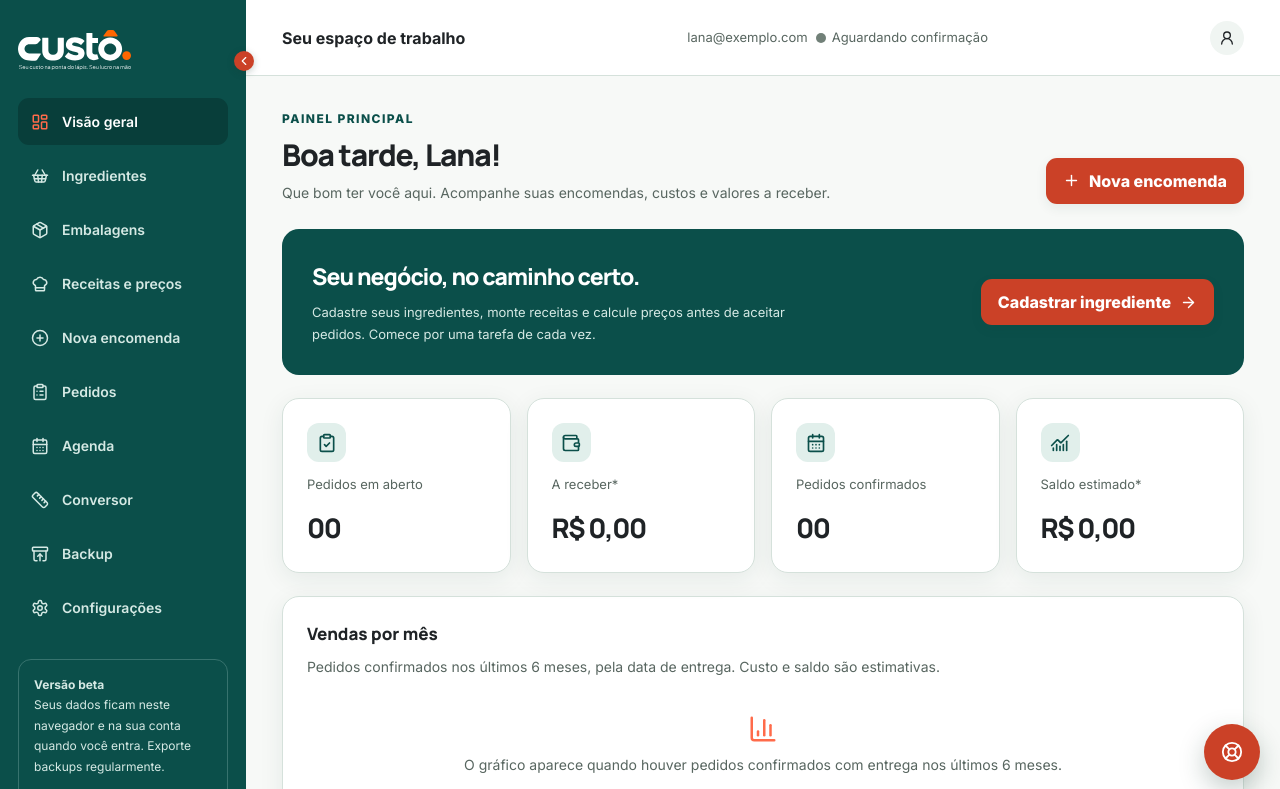
botão de suporte › sugestão vai direto para a equipe (o aviso diz isso)
Click the button named "Suporte" at (1232, 752), box [1204,724,1260,780]
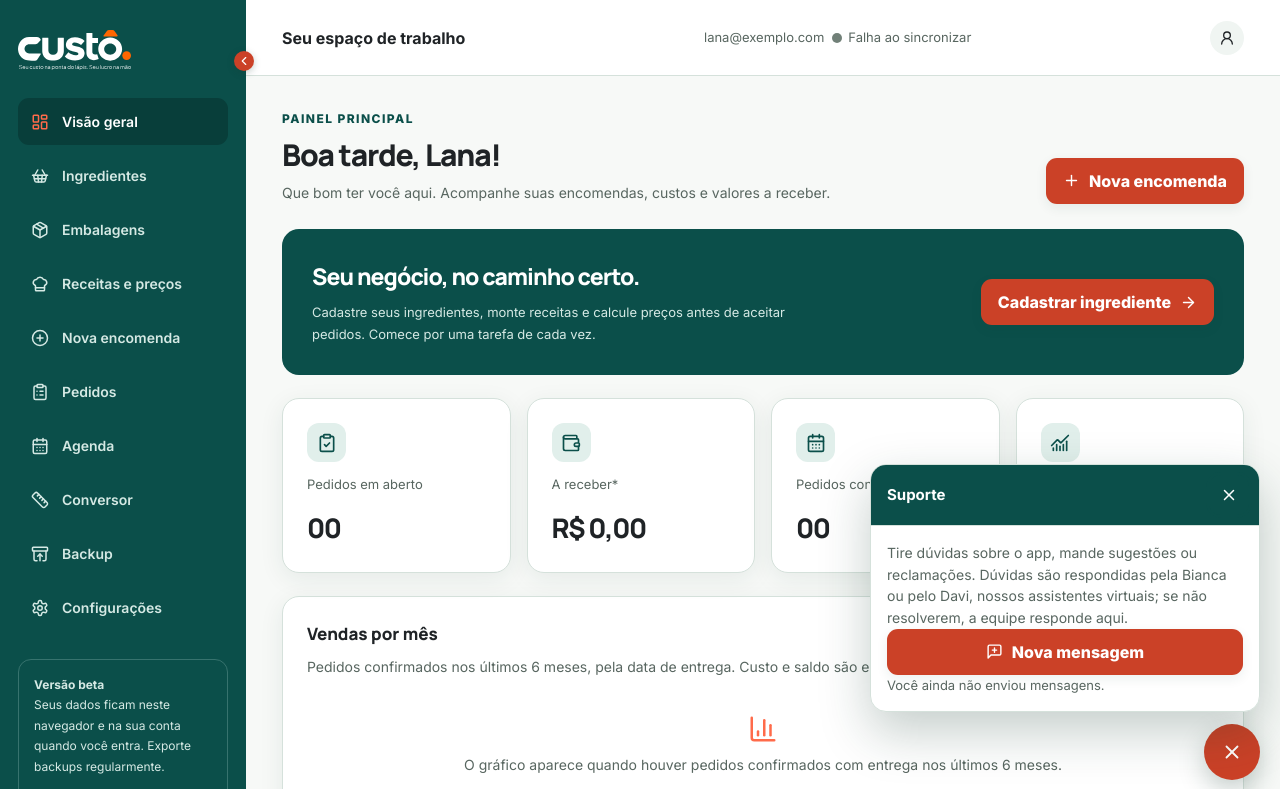
Click the button "Nova mensagem" at (1065, 652), box [887,629,1243,675]
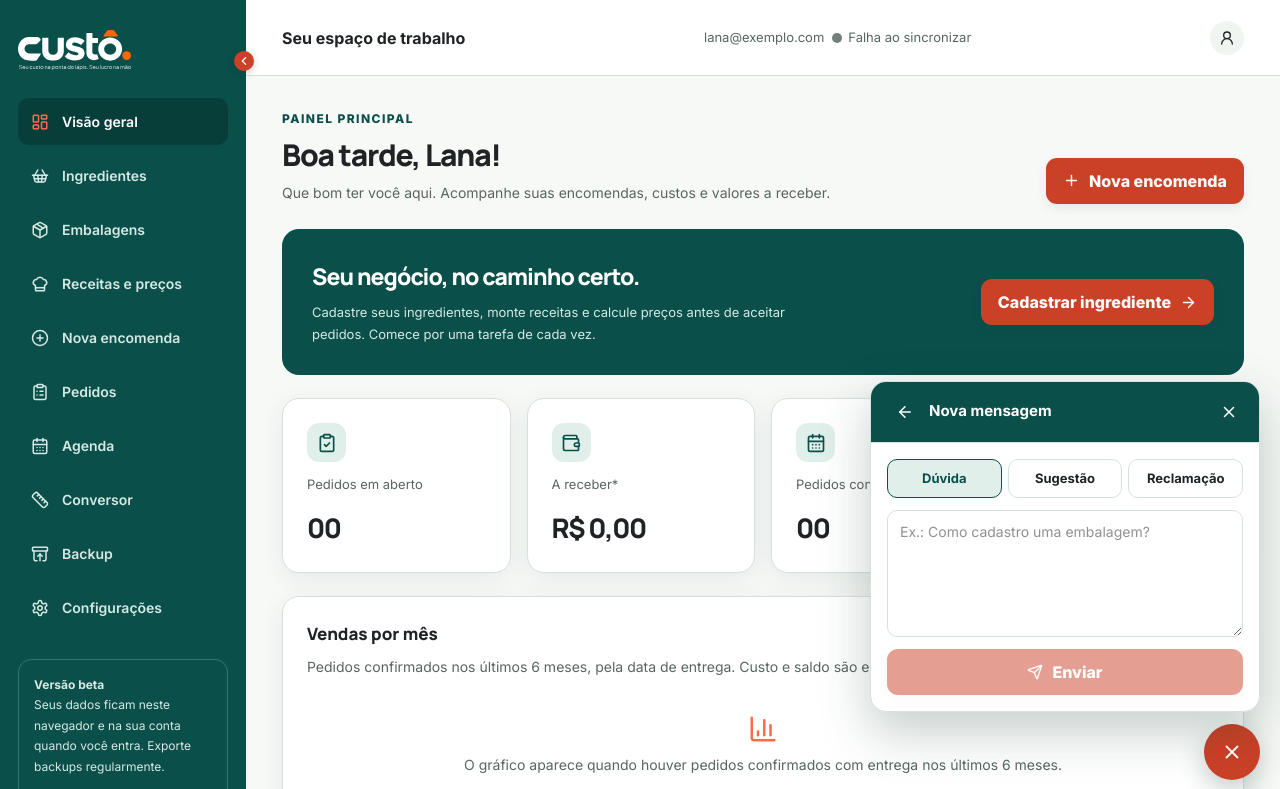
Click the radio button "Sugestão" at (1065, 478), box [1008,458,1122,498]
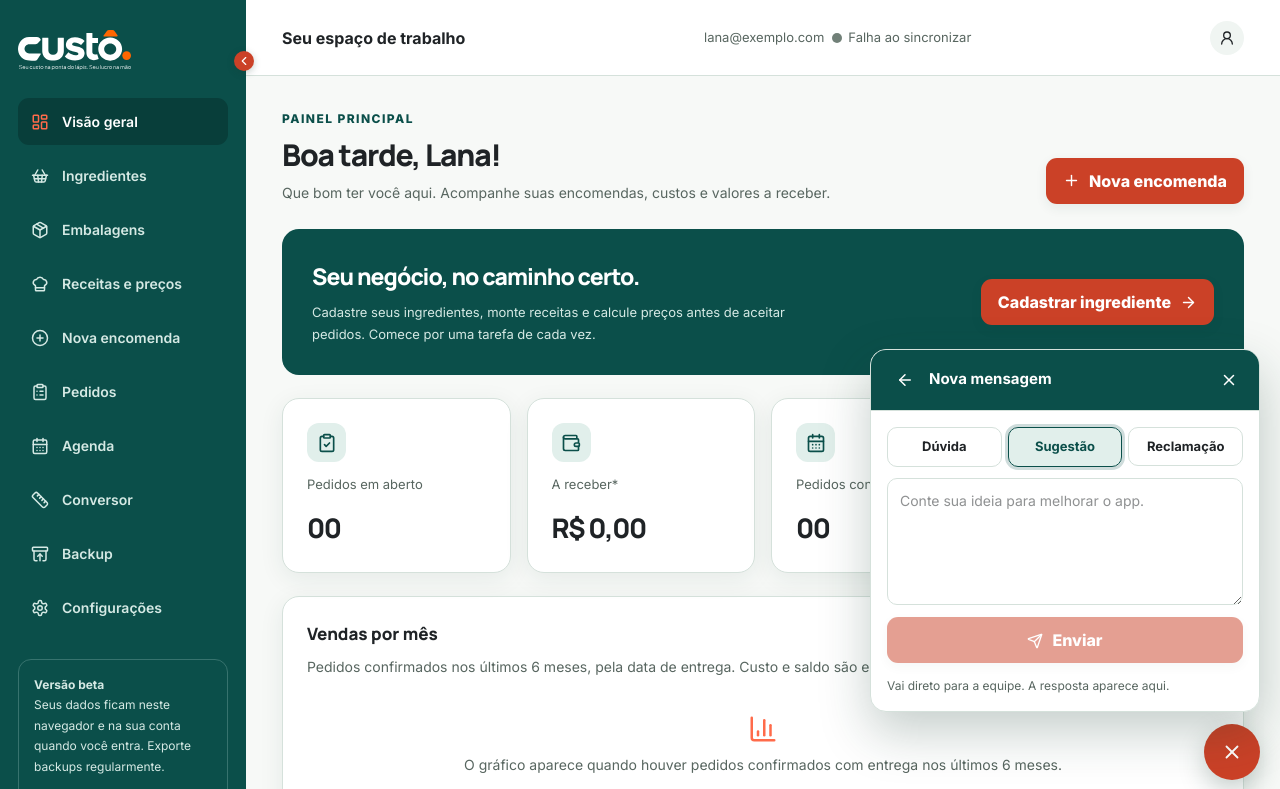
expect the text "Vai direto para a equipe. A resposta aparece aqui." is shown: met, box [887,678,1169,693]
